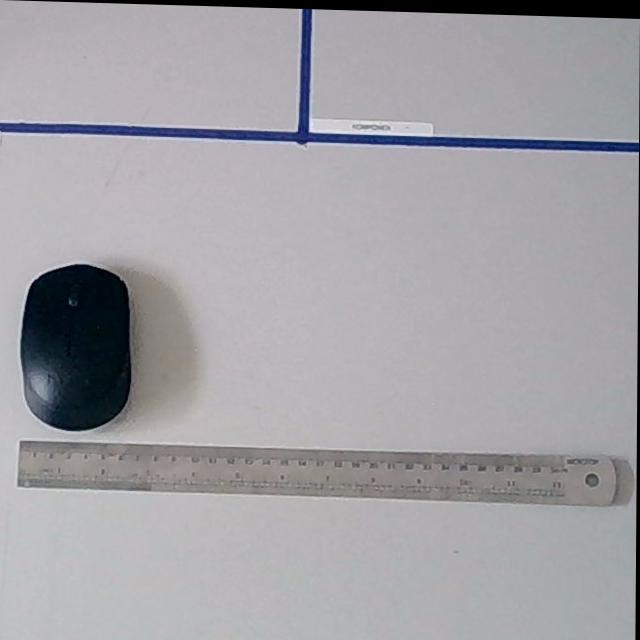mouse: (19, 261, 133, 433)
ruler: (17, 437, 620, 506)
